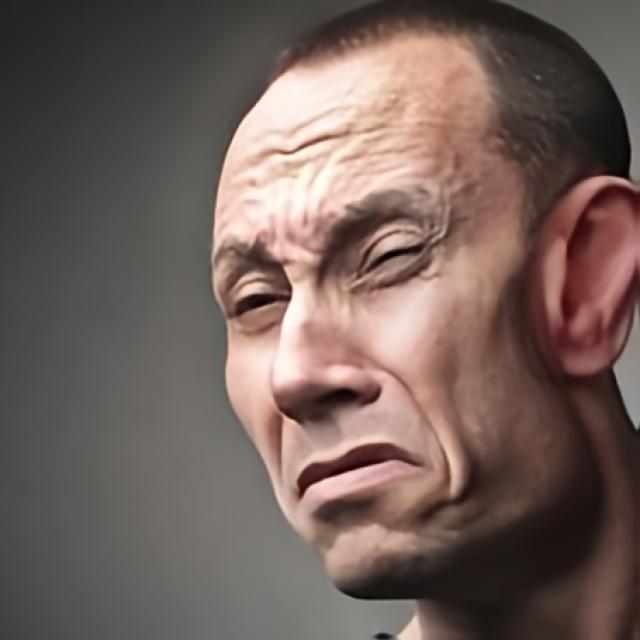disgust: (206, 31, 538, 602)
